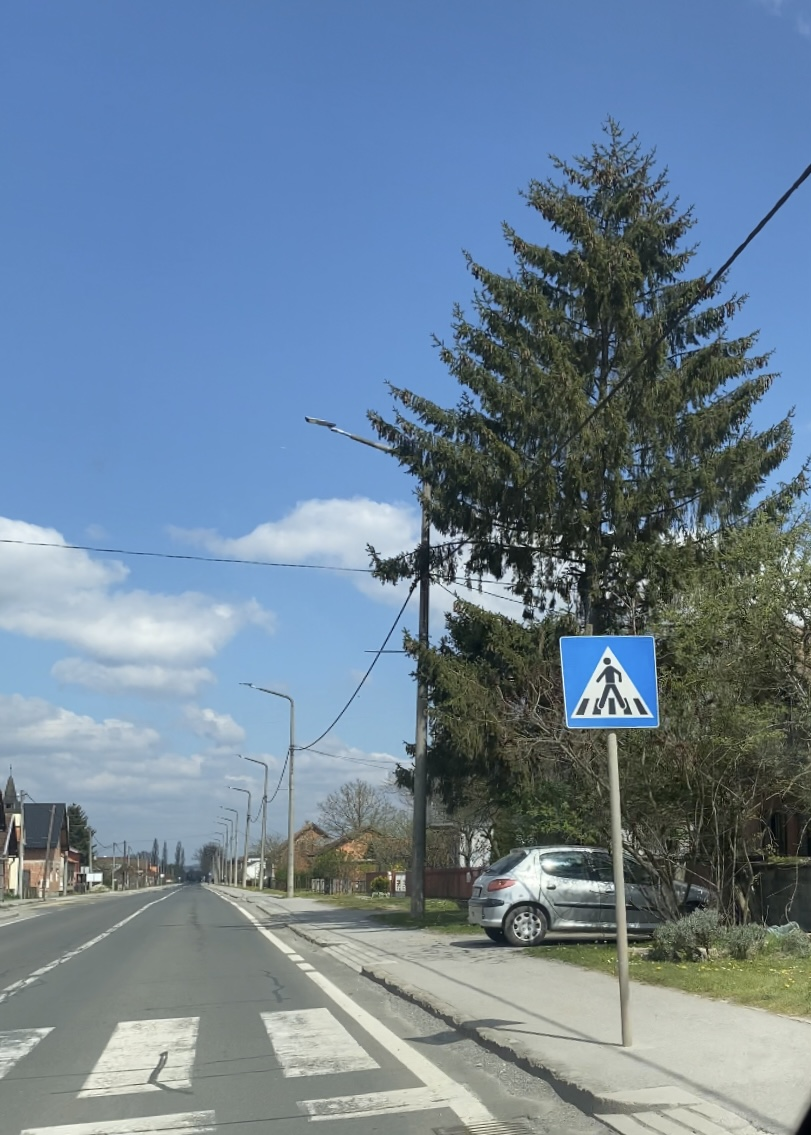Pješački prijelaz: (559, 635, 660, 727)
